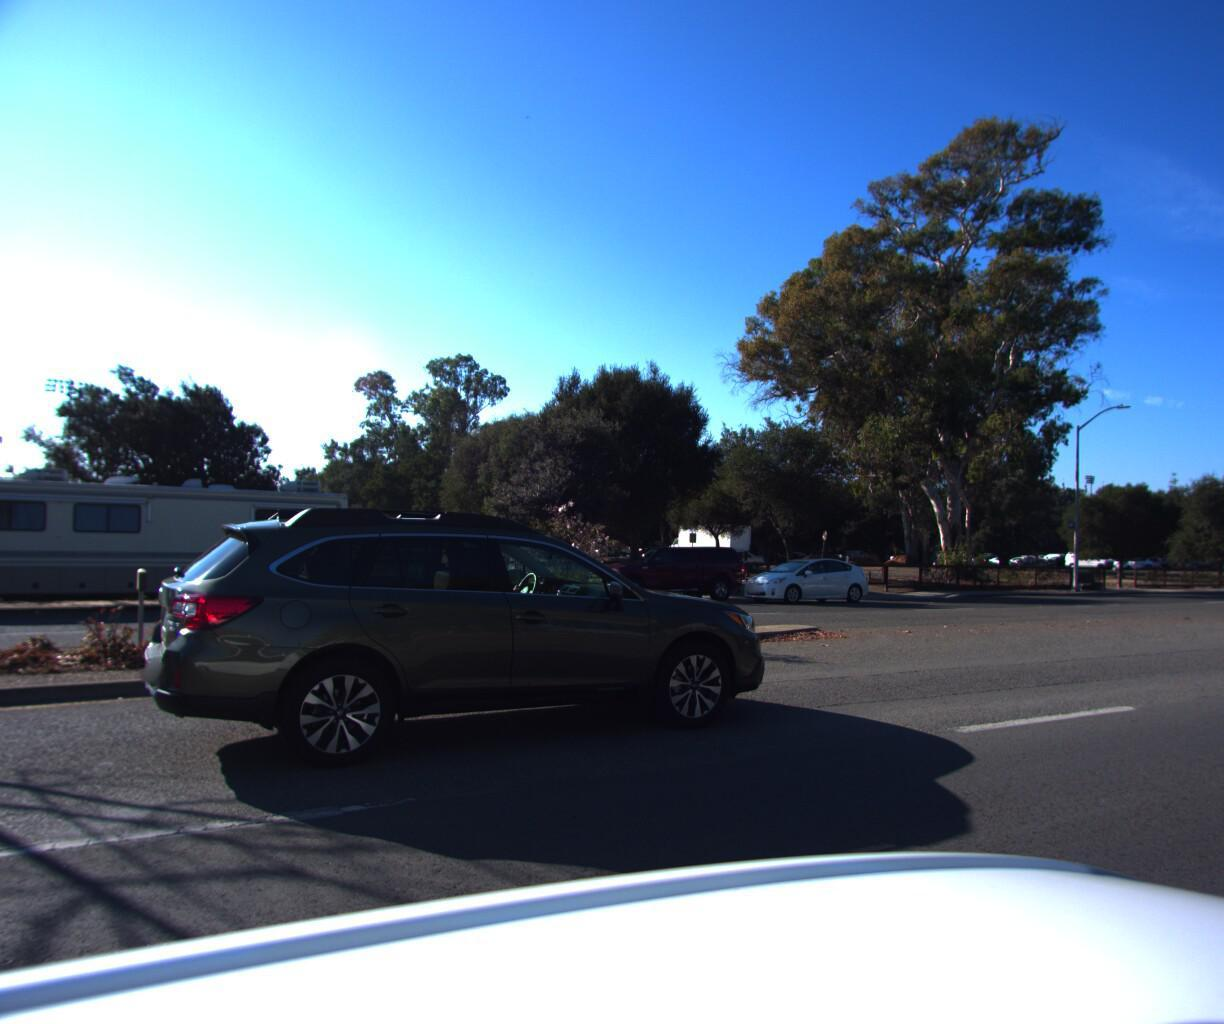car: (114, 462, 793, 801), (575, 542, 764, 607), (729, 552, 872, 609)
other_vehicle: (0, 451, 360, 625)
